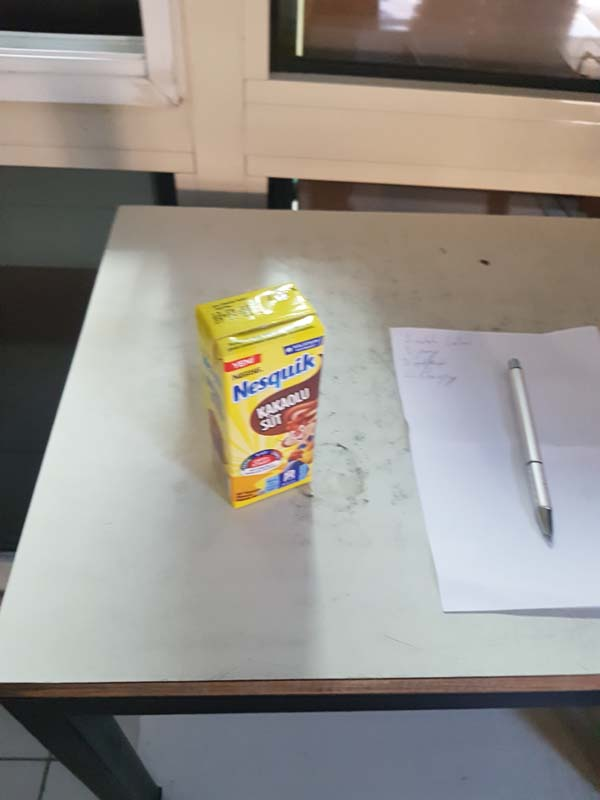nesquick200ml: (190, 280, 327, 513)
